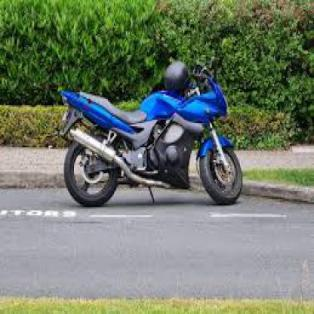Motocicleta: (54, 55, 246, 208)
